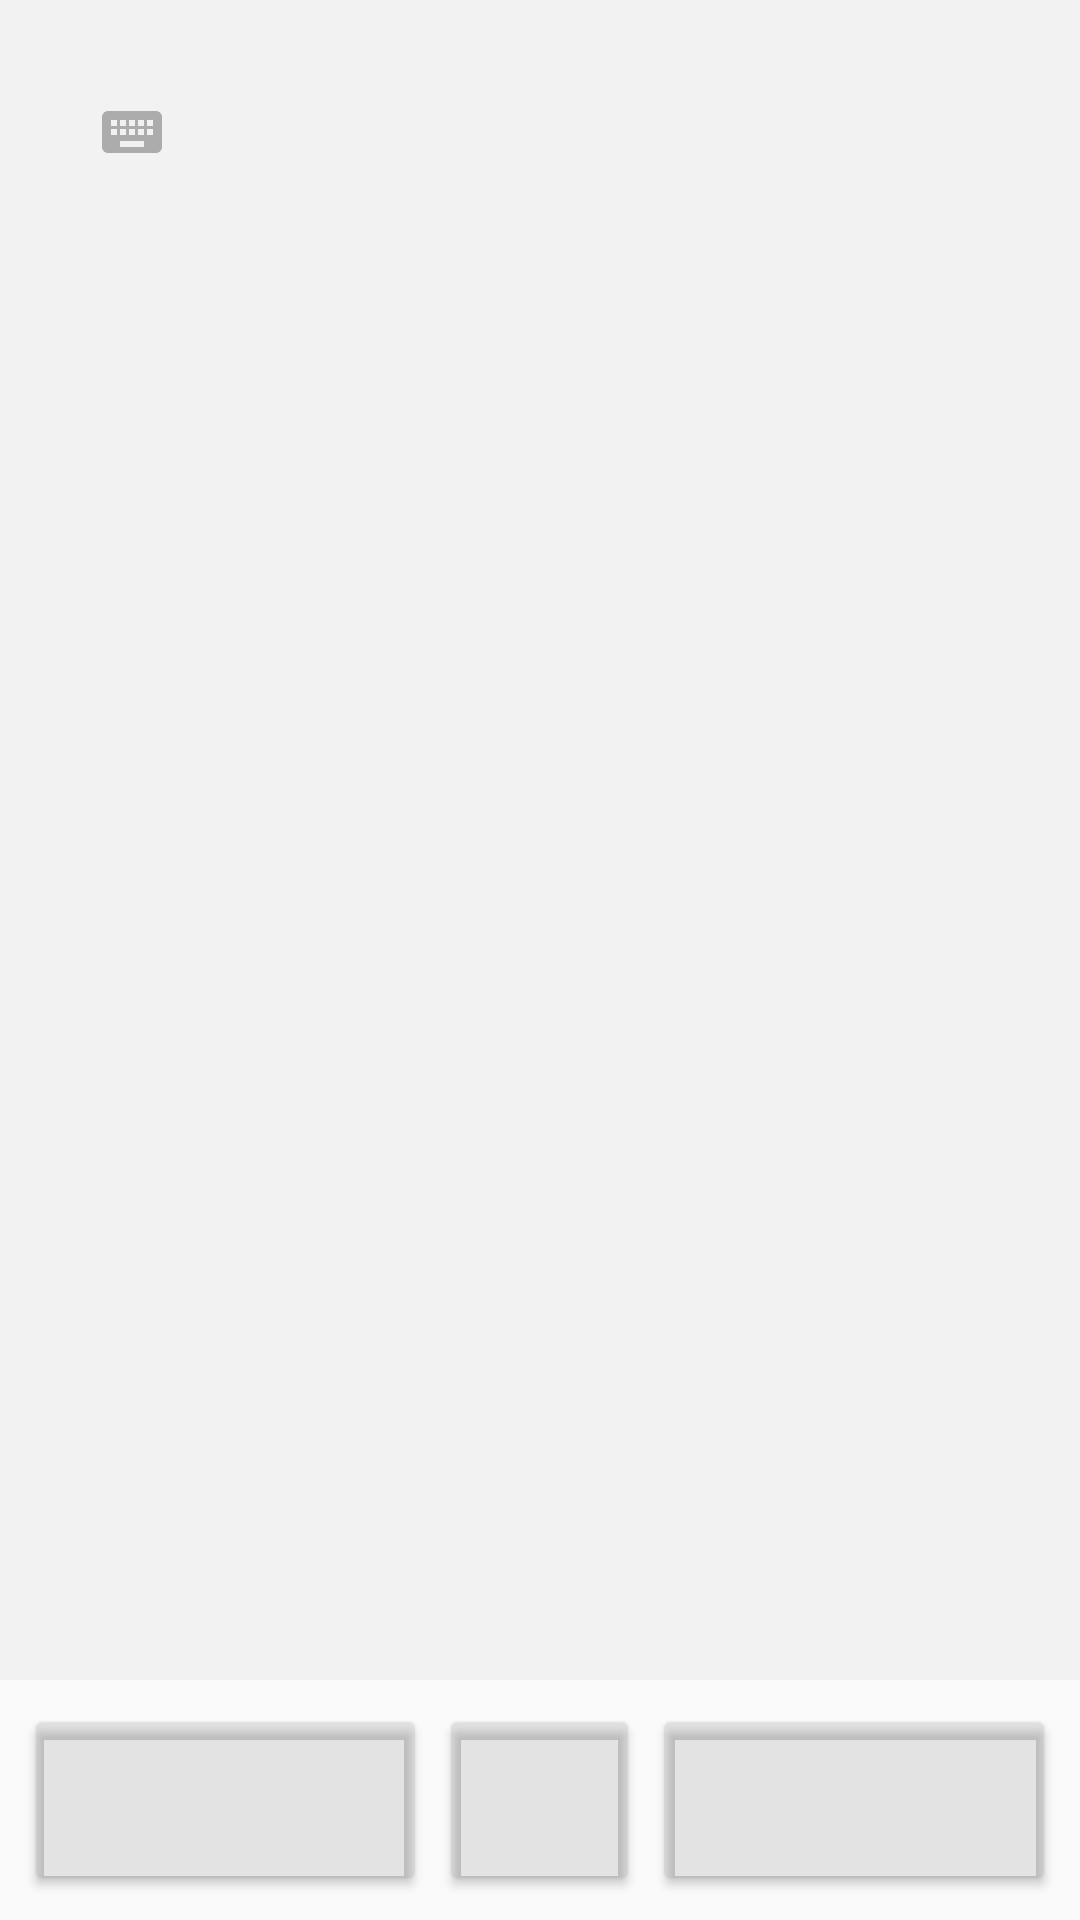

Named icons in this screenshot (1080px×1920px) and their centers, (x=x, y=y):
keyboard: (x=132, y=132)
